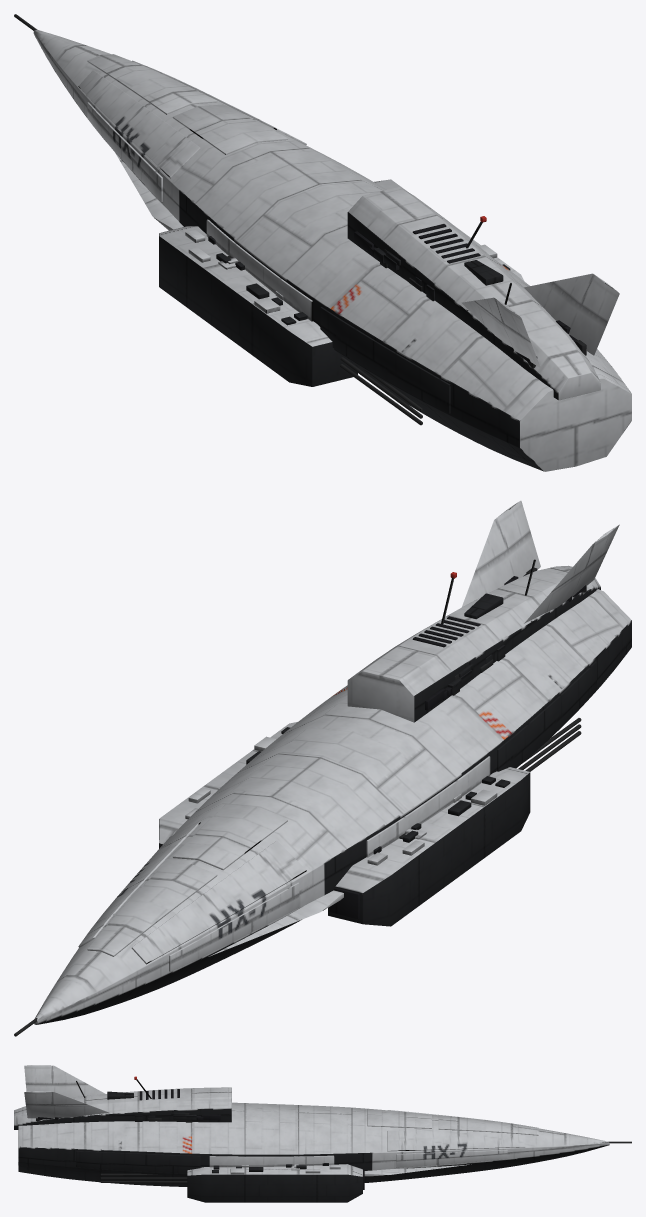
The model's file is Fuselaje.fbx.
The picture shows the model from 3 angles, top to bottom: view 1: azimuth 30°, elevation 25°; view 2: azimuth 150°, elevation 25°; view 3: azimuth 270°, elevation 25°; orthographic projection. The views are drawn at different scales.
Parts seen in each view (by area): view 1: Fuselaje; view 2: Fuselaje; view 3: Fuselaje.
Part boxes in pixels (<box>): Fuselaje: <box>14,14,631,471</box>; Fuselaje: <box>14,500,631,1036</box>; Fuselaje: <box>14,1065,631,1202</box>.
Size of the model in its own units: 660 by 514 by 2780.
